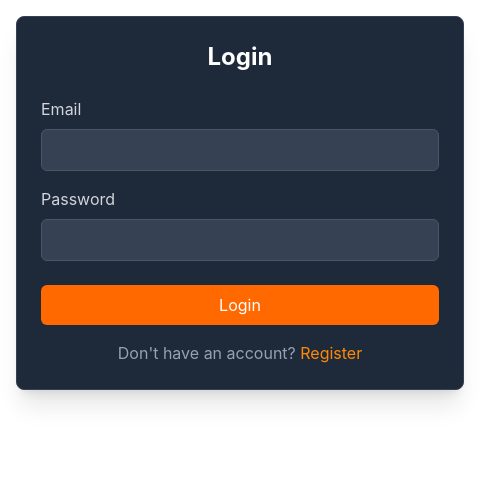
Test: LoginBox › shows default error message when error has no response
The image size is (481, 490).
Type "mock@mock.com" into the field labelled "Email". click: (240, 150)
box: [41,129,439,171]
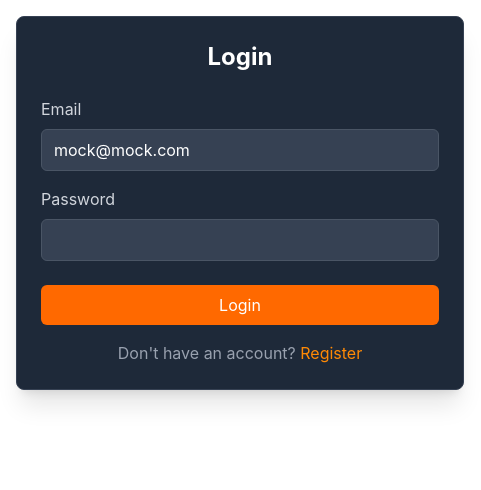
Type "M0ck!123" into the password field labelled "Password". click: (240, 240)
box: [41,219,439,261]
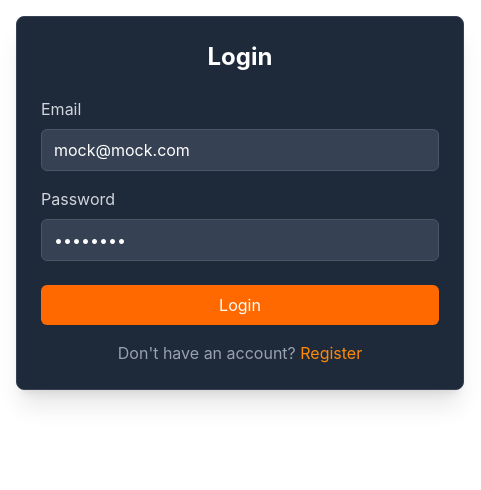
Click the button "Login". click: click(240, 305)
box: [41,285,439,325]
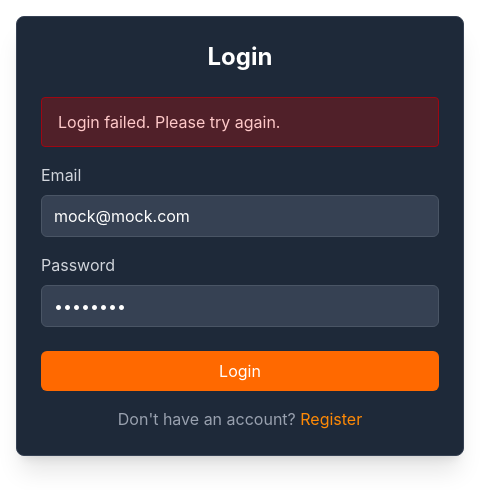
Result: the text "Login failed. Please try again." is shown at [41,97,439,147]
